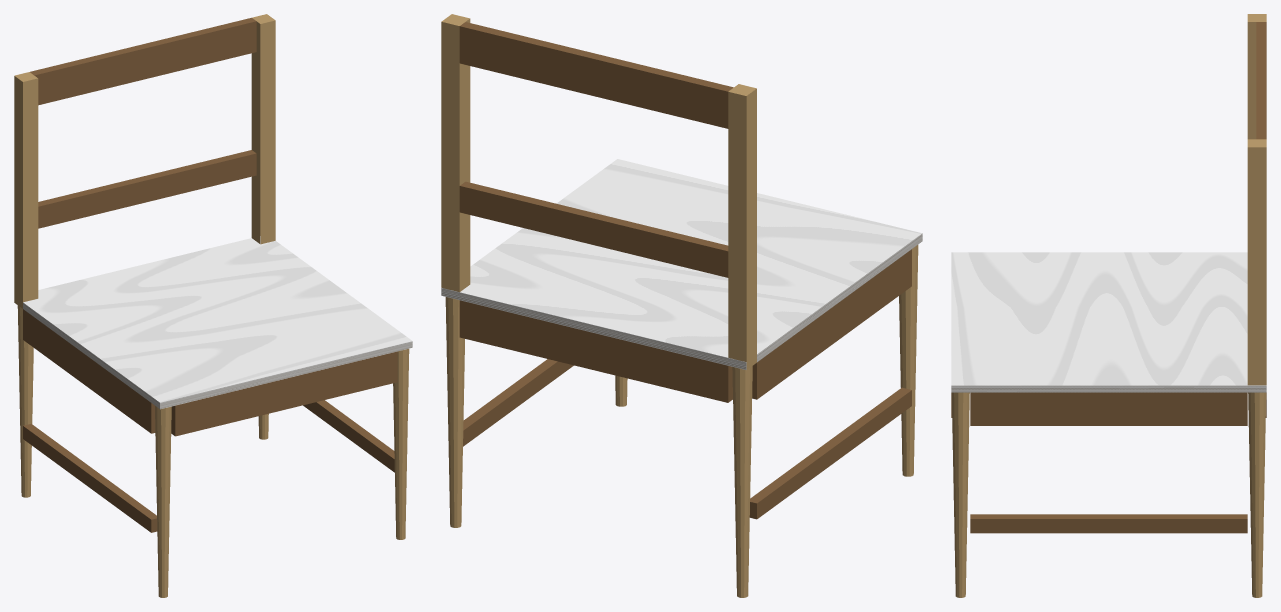
Rendered from ATL-DKC-std.glb.
3 views of the same model, side by side, from view 1: azimuth 30°, elevation 25°; view 2: azimuth 150°, elevation 25°; view 3: azimuth 270°, elevation 25° (orthographic). The views are drawn at different scales.
Parts seen in each view (by area): view 1: seat:sheet:eyJtIjoicGx5Iiwic2lkZSI6ImZhY2UiLCJzZWVkIjo2LCJ2Z, back-top:pbr, leg-bl:pbr, rail-f:pbr, back-mid:pbr, leg-br:pbr, rail-l:pbr, stretcher-l:pbr, leg-fl:pbr, leg-fr:pbr, seat:sheet:eyJtIjoicGx5Iiwic2lkZSI6ImVkZ2UtbG9uZyIsInNlZWQiO, stretcher-r:pbr (+1 smaller); view 2: seat:sheet:eyJtIjoicGx5Iiwic2lkZSI6ImZhY2UiLCJzZWVkIjo2LCJ2Z, leg-bl:pbr, back-top:pbr, leg-br:pbr, rail-b:pbr, back-mid:pbr, rail-l:pbr, stretcher-l:pbr, leg-fl:pbr, seat:sheet:eyJtIjoicGx5Iiwic2lkZSI6ImVkZ2UtbG9uZyIsInNlZWQiO, stretcher-r:pbr, seat:sheet:eyJtIjoicGx5Iiwic2lkZSI6ImVkZ2UtZW5kIiwic2VlZCI6N; view 3: seat:sheet:eyJtIjoicGx5Iiwic2lkZSI6ImZhY2UiLCJzZWVkIjo2LCJ2Z, rail-r:pbr, leg-br:pbr, stretcher-r:pbr, leg-fr:pbr, seat:sheet:eyJtIjoicGx5Iiwic2lkZSI6ImVkZ2UtZW5kIiwic2VlZCI6N, leg-bl:pbr, back-top:pbr.
Boxes of the visible parts, box(x1,y1,x2,y2) form: seat:sheet:eyJtIjoicGx5Iiwic2lkZSI6ImZhY2UiLCJzZWVkIjo2LCJ2Z: box(23, 236, 412, 402); back-top:pbr: box(30, 17, 256, 105); leg-bl:pbr: box(14, 72, 38, 497); rail-f:pbr: box(171, 351, 397, 436); back-mid:pbr: box(38, 150, 256, 228); leg-br:pbr: box(251, 14, 275, 439); rail-l:pbr: box(23, 309, 155, 433); stretcher-l:pbr: box(23, 423, 157, 532); leg-fl:pbr: box(155, 406, 171, 597); leg-fr:pbr: box(393, 348, 409, 539); seat:sheet:eyJtIjoicGx5Iiwic2lkZSI6ImVkZ2UtbG9uZyIsInNlZWQiO: box(160, 341, 412, 409); stretcher-r:pbr: box(303, 400, 394, 472); seat:sheet:eyJtIjoicGx5Iiwic2lkZSI6ImZhY2UiLCJzZWVkIjo2LCJ2Z: box(460, 159, 921, 357); leg-bl:pbr: box(728, 84, 756, 597); back-top:pbr: box(459, 22, 733, 128); leg-br:pbr: box(441, 14, 470, 527); rail-b:pbr: box(459, 300, 732, 402); back-mid:pbr: box(459, 181, 728, 277); rail-l:pbr: box(752, 249, 911, 399); stretcher-l:pbr: box(749, 387, 911, 519); leg-fl:pbr: box(899, 245, 918, 476); seat:sheet:eyJtIjoicGx5Iiwic2lkZSI6ImVkZ2UtbG9uZyIsInNlZWQiO: box(441, 288, 746, 369); stretcher-r:pbr: box(463, 359, 573, 446); seat:sheet:eyJtIjoicGx5Iiwic2lkZSI6ImVkZ2UtZW5kIiwic2VlZCI6N: box(746, 233, 922, 369); seat:sheet:eyJtIjoicGx5Iiwic2lkZSI6ImZhY2UiLCJzZWVkIjo2LCJ2Z: box(951, 252, 1266, 385); rail-r:pbr: box(970, 392, 1247, 425); leg-br:pbr: box(1247, 139, 1266, 597); stretcher-r:pbr: box(970, 514, 1247, 533); leg-fr:pbr: box(951, 392, 969, 597); seat:sheet:eyJtIjoicGx5Iiwic2lkZSI6ImVkZ2UtZW5kIiwic2VlZCI6N: box(951, 385, 1266, 392); leg-bl:pbr: box(1247, 14, 1266, 139); back-top:pbr: box(1256, 22, 1266, 139).
Size of the model in its own units: 0.6001 by 0.95 by 0.6.
15 materials, 3 textured.
